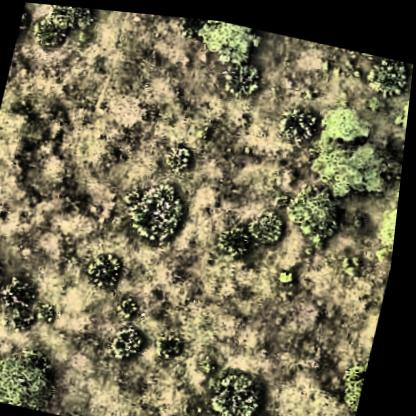tree-top: (305, 92, 400, 201), (0, 336, 75, 412), (119, 173, 194, 247), (280, 175, 353, 247), (210, 355, 279, 416), (193, 15, 269, 62), (340, 351, 375, 413), (219, 52, 267, 96), (374, 189, 402, 257), (111, 318, 155, 361), (46, 4, 97, 34), (397, 63, 413, 136), (0, 244, 15, 299)
